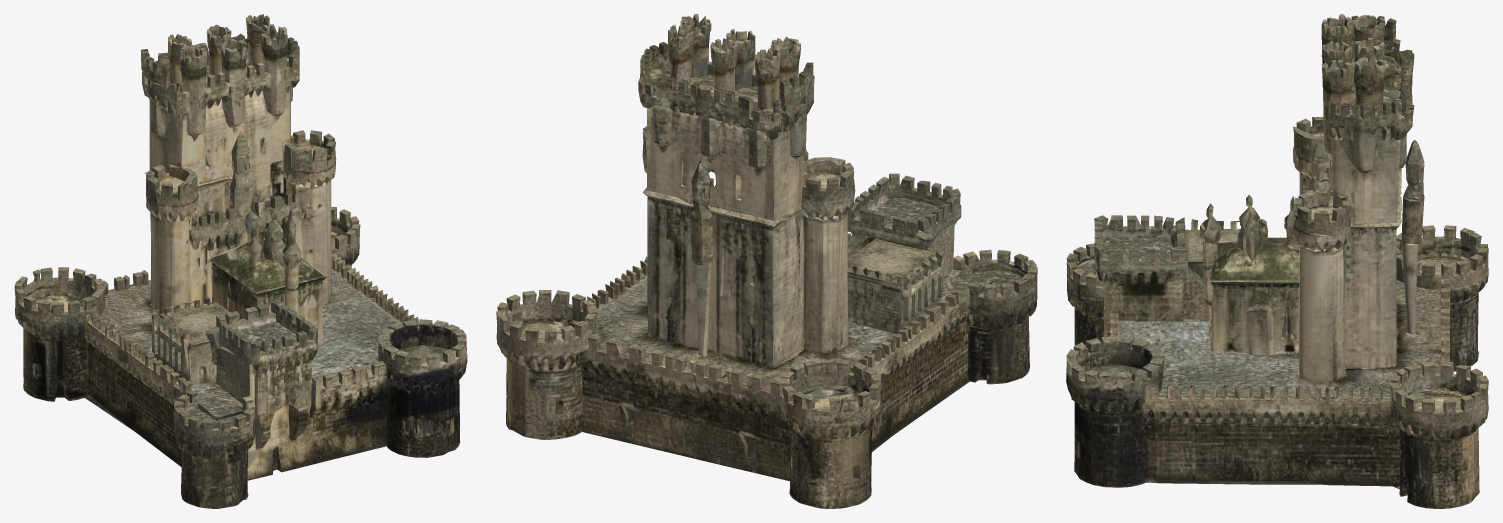
Rendered from keep_castel.glb.
3 renders of one model, left to right at view 1: azimuth 30°, elevation 25°; view 2: azimuth 150°, elevation 25°; view 3: azimuth 270°, elevation 25°, orthographic. The views are drawn at different scales.
Parts seen in each view (by area): view 1: keep_castel; view 2: keep_castel; view 3: keep_castel.
Part boxes in pixels (x1,y1,x2,y2): keep_castel: [14, 14, 467, 508]; keep_castel: [496, 14, 1037, 508]; keep_castel: [1066, 14, 1488, 508].
Size of the model in its own units: 1.88 by 1.9 by 1.89.
Materials: 1 (1 with a texture image).
